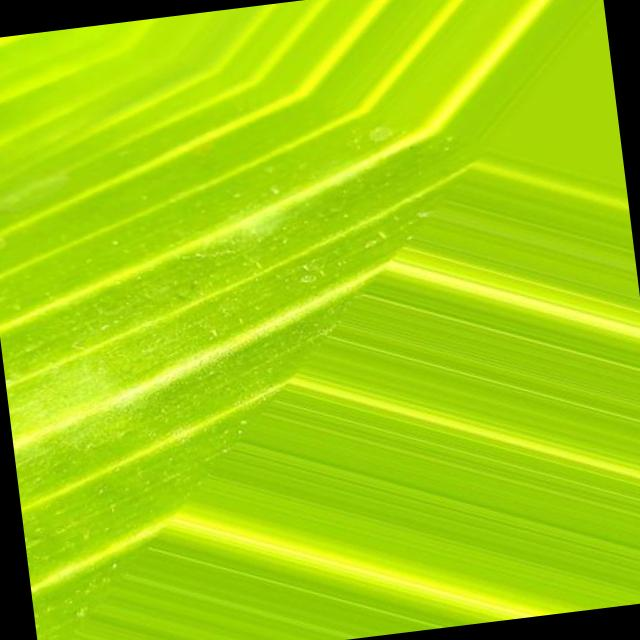Banana_Healthy: (27, 50, 315, 375)
